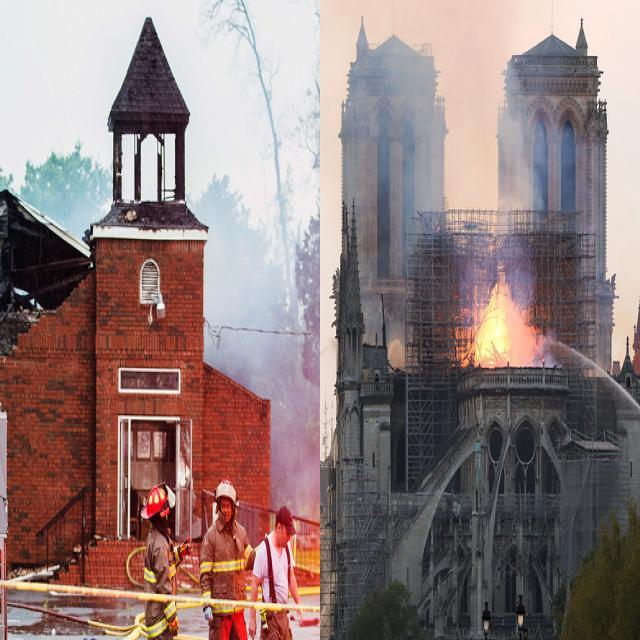Fire: (448, 250, 564, 381)
